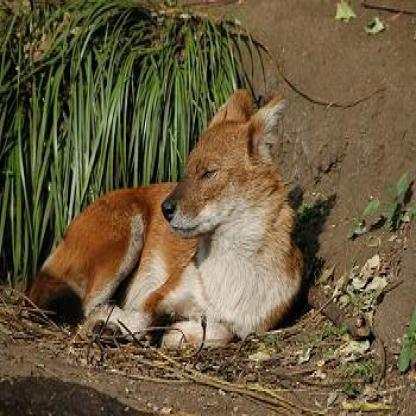dhole: (25, 86, 303, 346)
